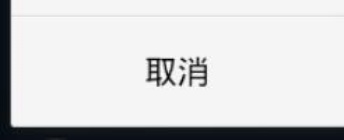Button: (1, 1, 343, 139)
